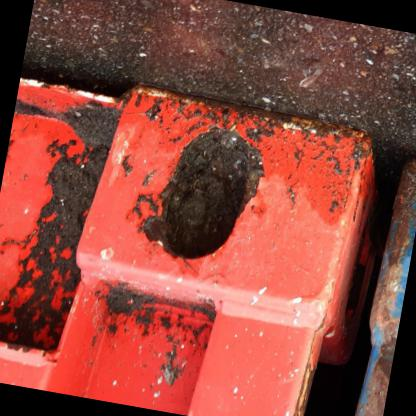CornerCasting: (73, 73, 402, 370)
